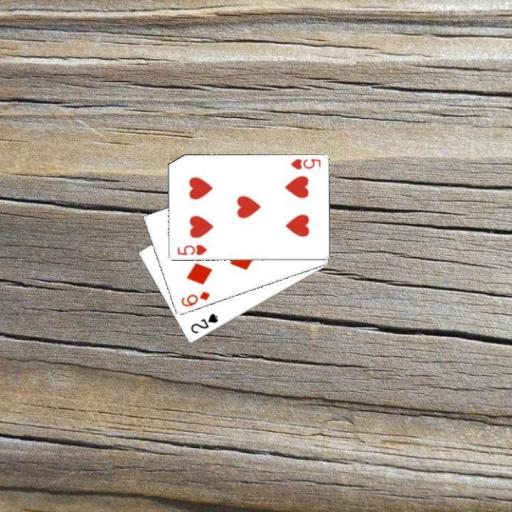2S: (187, 310, 219, 336)
5H: (174, 242, 209, 257), (287, 156, 322, 171)
6D: (178, 288, 211, 309)
